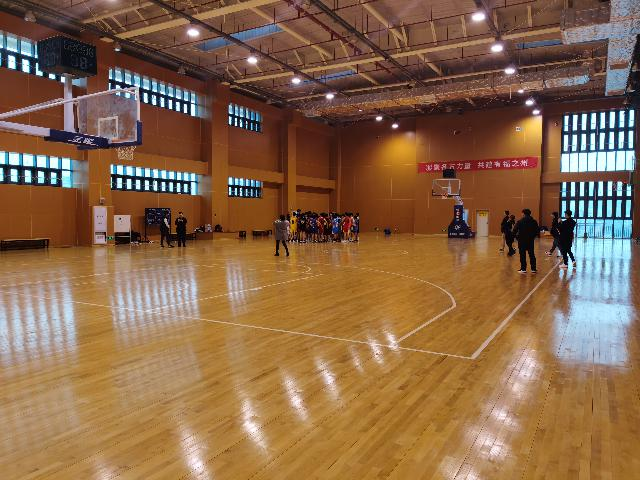basket: (115, 138, 135, 160), (612, 180, 624, 191), (440, 192, 448, 198)
